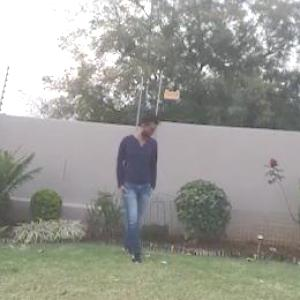follow: (110, 111, 159, 264)
